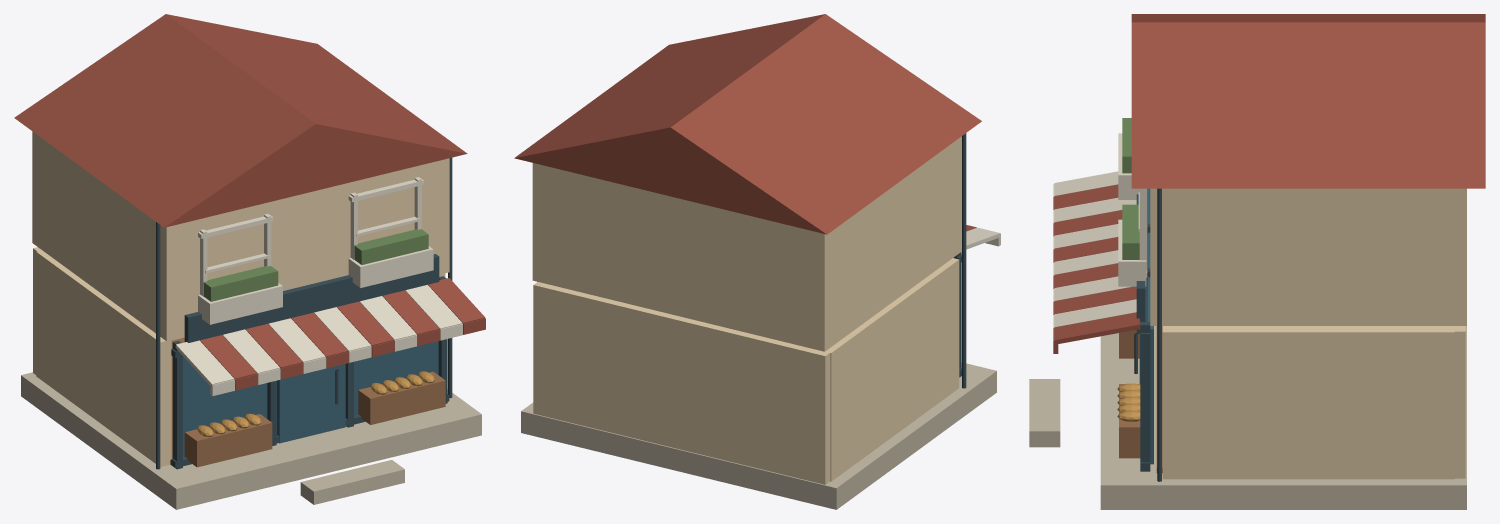
The model's file is bakery_lod.glb.
3 views of the same model, side by side, from view 1: azimuth 30°, elevation 25°; view 2: azimuth 150°, elevation 25°; view 3: azimuth 270°, elevation 25° (orthographic). The views are drawn at different scales.
Parts seen in each view (by area): view 1: bakery_Gable_Roof, bakery_Upper_Residence, bakery_Shop_Side_Wall, bakery_Shop_Plinth, bakery_Shopfront_Recess, bakery_Sign_Backplate, bakery_Entrance_Door, bakery_Display_Counter, bakery_Display_Counter.001, bakery_Shop_Step, bakery_Raised_Planter.001, bakery_Raised_Planter (+21 smaller); view 2: bakery_Gable_Roof, bakery_Upper_Residence, bakery_Rear_Shop_Wall, bakery_Shop_Side_Wall, bakery_Shop_Plinth, bakery_Rain_Downpipe; view 3: bakery_Gable_Roof, bakery_Shop_Side_Wall.001, bakery_Upper_Residence, bakery_Shop_Plinth, bakery_Shop_Step, bakery_Rear_Shop_Wall, bakery_Striped_Canvas.011, bakery_Shopfront_Mullion.003, bakery_Rain_Downpipe.001, bakery_Striped_Canvas.010, bakery_Striped_Canvas.009, bakery_Striped_Canvas.002 (+15 smaller).
Boxes of the visible parts, box(x1,y1,x2,y2) form: bakery_Gable_Roof: box(14, 14, 467, 227); bakery_Upper_Residence: box(32, 131, 449, 341); bakery_Shop_Side_Wall: box(36, 250, 171, 466); bakery_Shop_Plinth: box(21, 372, 481, 509); bakery_Shopfront_Recess: box(183, 341, 438, 456); bakery_Sign_Backplate: box(184, 254, 439, 342); bakery_Entrance_Door: box(277, 364, 345, 443); bakery_Display_Counter: box(184, 414, 272, 467); bakery_Display_Counter.001: box(358, 371, 445, 424); bakery_Shop_Step: box(300, 460, 404, 504); bakery_Raised_Planter.001: box(348, 246, 433, 287); bakery_Raised_Planter: box(198, 283, 282, 324); bakery_Gable_Roof: box(514, 14, 981, 234); bakery_Upper_Residence: box(532, 136, 961, 351); bakery_Rear_Shop_Wall: box(533, 282, 831, 484); bakery_Shop_Side_Wall: box(827, 258, 959, 481); bakery_Shop_Plinth: box(521, 362, 996, 509); bakery_Rain_Downpipe: box(962, 133, 966, 388); bakery_Gable_Roof: box(1131, 14, 1485, 188); bakery_Shop_Side_Wall.001: box(1162, 326, 1454, 479); bakery_Upper_Residence: box(1150, 188, 1466, 325); bakery_Shop_Plinth: box(1100, 326, 1466, 509); bakery_Shop_Step: box(1029, 379, 1060, 447); bakery_Rear_Shop_Wall: box(1450, 326, 1465, 478); bakery_Striped_Canvas.011: box(1054, 312, 1140, 343); bakery_Shopfront_Mullion.003: box(1140, 322, 1150, 471); bakery_Rain_Downpipe.001: box(1157, 188, 1161, 481); bakery_Striped_Canvas.010: box(1054, 299, 1136, 327); bakery_Striped_Canvas.009: box(1054, 286, 1136, 313); bakery_Striped_Canvas.002: box(1054, 197, 1136, 222).
Bounding box in the file's own units: 6.7 × 7.1 × 7.35.
